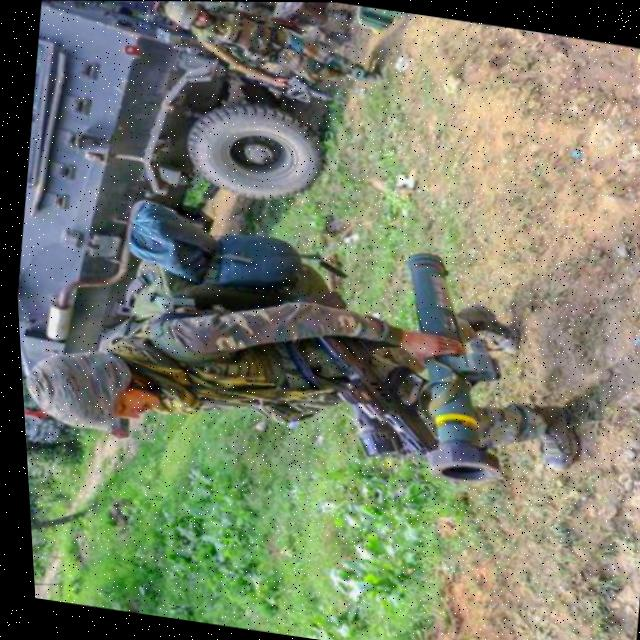rocket: (358, 250, 523, 485)
